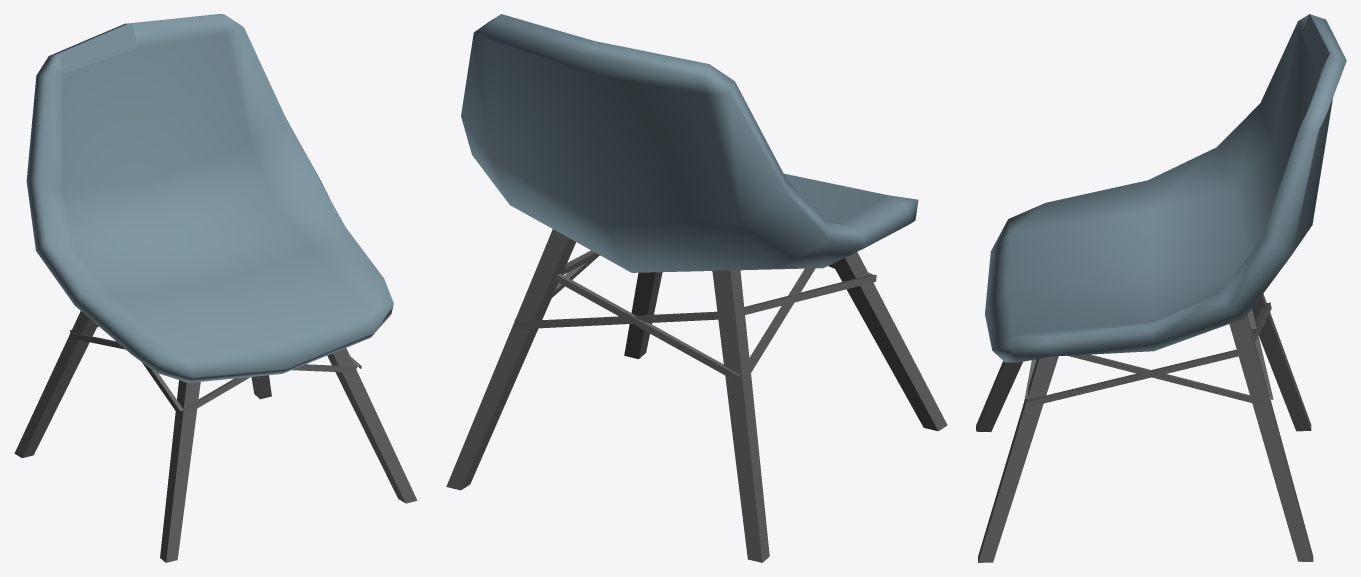
The model's file is Ghe.fbx.
3 views of the same model, side by side, from view 1: azimuth 30°, elevation 25°; view 2: azimuth 150°, elevation 25°; view 3: azimuth 270°, elevation 25° (orthographic). The views are drawn at different scales.
Visible parts, largest first — view 1: polySurface1245, polySurface1230, polySurface1215, polySurface1201, polySurface1200; view 2: polySurface1245, polySurface1201, polySurface1218, polySurface1230, polySurface1205, polySurface1215, polySurface1186, polySurface1233, polySurface1197; view 3: polySurface1245, polySurface1218, polySurface1215, polySurface1201, polySurface1223, polySurface1225, polySurface1230.
Boxes of the visible parts, x1,y1,x2,y2 form: polySurface1245: (26, 14, 393, 382); polySurface1230: (160, 380, 200, 562); polySurface1215: (327, 348, 417, 503); polySurface1201: (14, 311, 97, 458); polySurface1200: (183, 377, 250, 414); polySurface1245: (461, 14, 918, 272); polySurface1201: (712, 270, 769, 562); polySurface1218: (446, 229, 575, 490); polySurface1230: (832, 252, 947, 431); polySurface1205: (555, 273, 740, 380); polySurface1215: (624, 272, 662, 359); polySurface1186: (514, 311, 718, 329); polySurface1233: (744, 274, 876, 314); polySurface1197: (743, 268, 815, 378); polySurface1245: (985, 14, 1346, 362); polySurface1218: (1229, 315, 1313, 561); polySurface1215: (978, 356, 1058, 562); polySurface1201: (1252, 293, 1311, 431); polySurface1223: (1026, 349, 1238, 406); polySurface1225: (1067, 354, 1267, 406); polySurface1230: (976, 361, 1022, 431).
Size of the model in its own units: 61.61 by 81.08 by 61.98.
